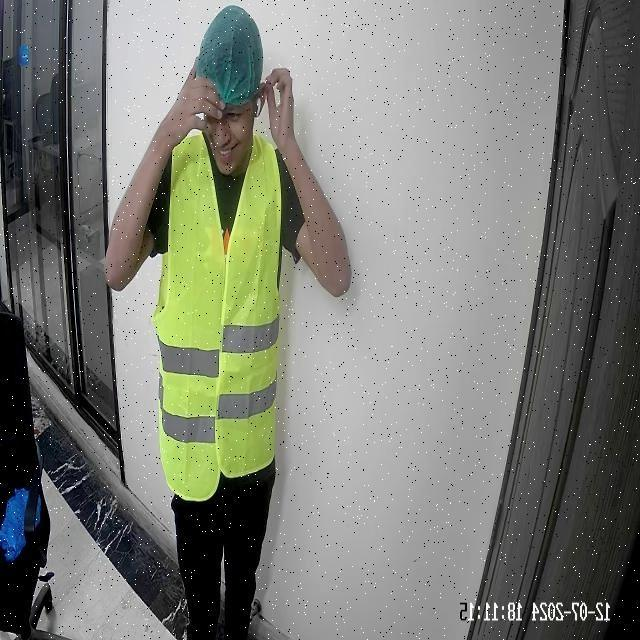gloves: (200, 3, 266, 98)
no_apron: (147, 81, 213, 130), (265, 61, 301, 146)
no_hairnet: (206, 120, 256, 166)
